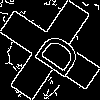D: (25, 25, 83, 80)
